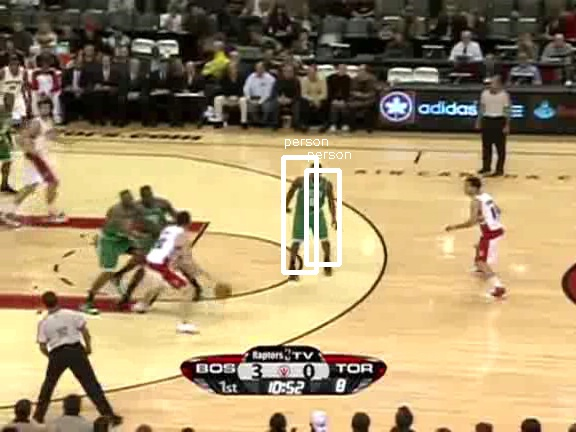person: (296, 169, 330, 250), (295, 169, 329, 250), (297, 169, 331, 250), (296, 168, 330, 249), (296, 170, 330, 251)
target_negative: (10, 13, 448, 151), (355, 291, 462, 374), (522, 234, 551, 401), (513, 326, 527, 421), (569, 339, 575, 402)
